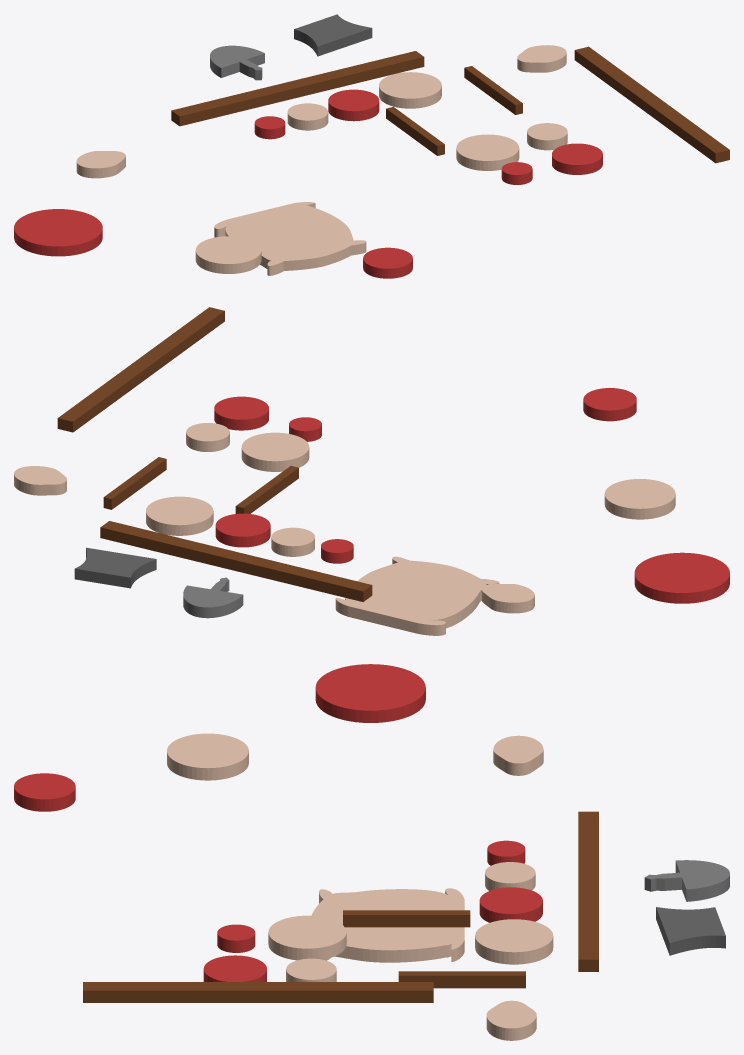
The model's file is target.fbx.
3 views of the same model, one above another, from view 1: azimuth 30°, elevation 25°; view 2: azimuth 150°, elevation 25°; view 3: azimuth 270°, elevation 25° (orthographic). The views are drawn at different scales.
Visible parts, largest first — view 1: path2600, Curve, Curve.001, circle2602, circle2604, circle2660, path2596, circle2662, path2608, circle2602-7, circle2664, circle2606 (+8 smaller); view 2: path2600, Curve, Curve.001, circle2602, circle2604, circle2660, circle2662, path2596, path2608, circle2602-7, circle2664, circle2606 (+8 smaller); view 3: path2600, Curve.001, circle2602, Curve, circle2604, circle2660, circle2662, path2596, path2608, Curve.002, circle2606, Curve.003 (+8 smaller).
Boxes of the visible parts, x1,y1,x2,y2 form: path2600: [214, 202, 366, 275]; Curve: [171, 51, 424, 126]; Curve.001: [574, 46, 729, 163]; circle2602: [14, 209, 102, 256]; circle2604: [195, 236, 261, 273]; circle2660: [379, 72, 441, 108]; path2596: [294, 14, 372, 56]; circle2662: [456, 134, 519, 170]; path2608: [210, 45, 264, 80]; circle2602-7: [328, 89, 379, 121]; circle2664: [552, 143, 602, 174]; circle2606: [363, 247, 412, 278]; path2600: [335, 556, 499, 635]; Curve: [100, 521, 372, 601]; Curve.001: [57, 307, 224, 432]; circle2602: [634, 552, 729, 603]; circle2604: [604, 479, 675, 519]; circle2660: [146, 496, 213, 535]; circle2662: [241, 432, 309, 471]; path2596: [74, 547, 156, 588]; path2608: [183, 577, 243, 618]; circle2602-7: [215, 513, 270, 547]; circle2664: [214, 396, 268, 430]; circle2606: [583, 388, 636, 421]; path2600: [311, 888, 464, 962]; Curve.001: [83, 982, 433, 1002]; circle2602: [315, 664, 425, 722]; Curve: [578, 811, 598, 971]; circle2604: [167, 733, 248, 780]; circle2660: [475, 919, 553, 964]; circle2662: [268, 915, 346, 960]; path2596: [656, 907, 725, 955]; path2608: [644, 860, 729, 901]; Curve.002: [343, 910, 470, 927]; circle2606: [14, 773, 75, 811]; Curve.003: [398, 971, 525, 988].
Size of the model in its own units: 189 by 32.08 by 157.
